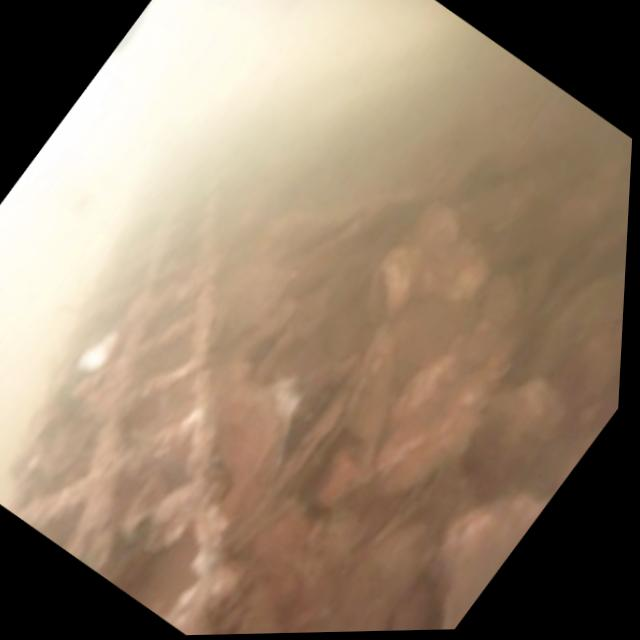Oyster-Closed: (239, 380, 355, 524), (437, 494, 548, 630), (364, 246, 413, 327)
Oyster-Indeterminate: (314, 324, 398, 510), (525, 278, 625, 404), (323, 520, 434, 632), (381, 369, 483, 489), (466, 258, 548, 379), (460, 385, 557, 483), (415, 214, 489, 303)
